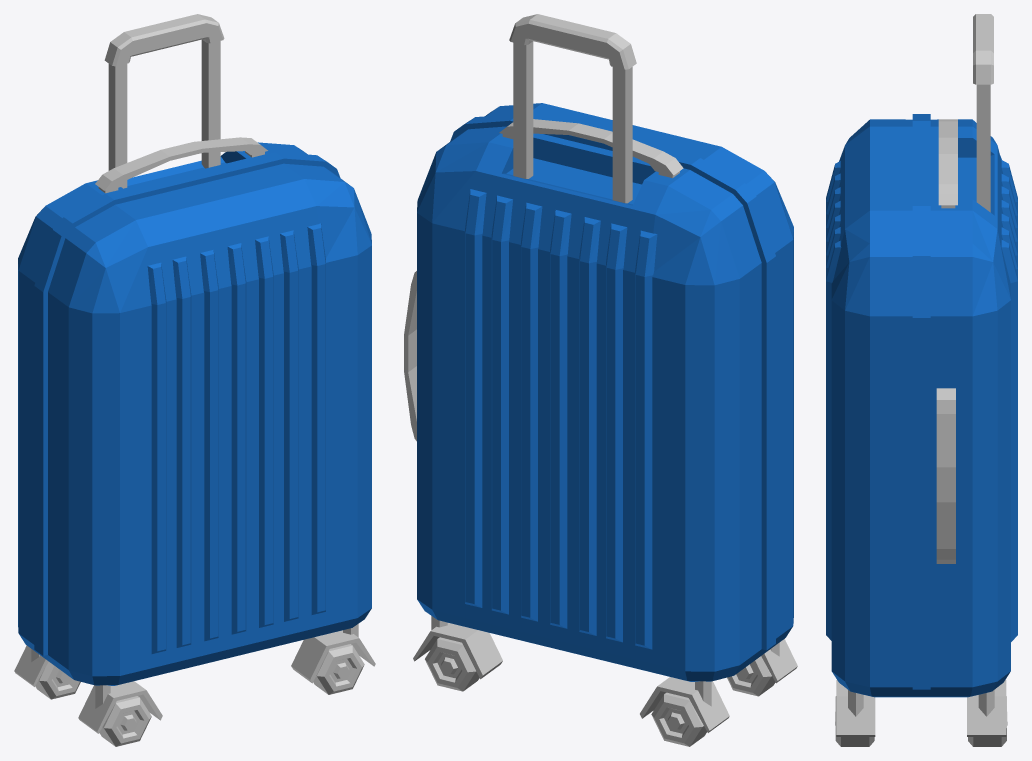
The model's file is SM_bag_5.fbx.
The picture shows the model from 3 angles, left to right: view 1: azimuth 30°, elevation 25°; view 2: azimuth 150°, elevation 25°; view 3: azimuth 270°, elevation 25°; orthographic projection. The views are drawn at different scales.
Parts seen in each view (by area): view 1: Symmetry_10; view 2: Symmetry_10; view 3: Symmetry_10.
Boxes of the visible parts, x1=… form: Symmetry_10: x1=14, y1=14, x2=375, y2=746; Symmetry_10: x1=404, y1=14, x2=797, y2=746; Symmetry_10: x1=826, y1=14, x2=1017, y2=746.
Size of the model in its own units: 614 by 1146 by 304.
